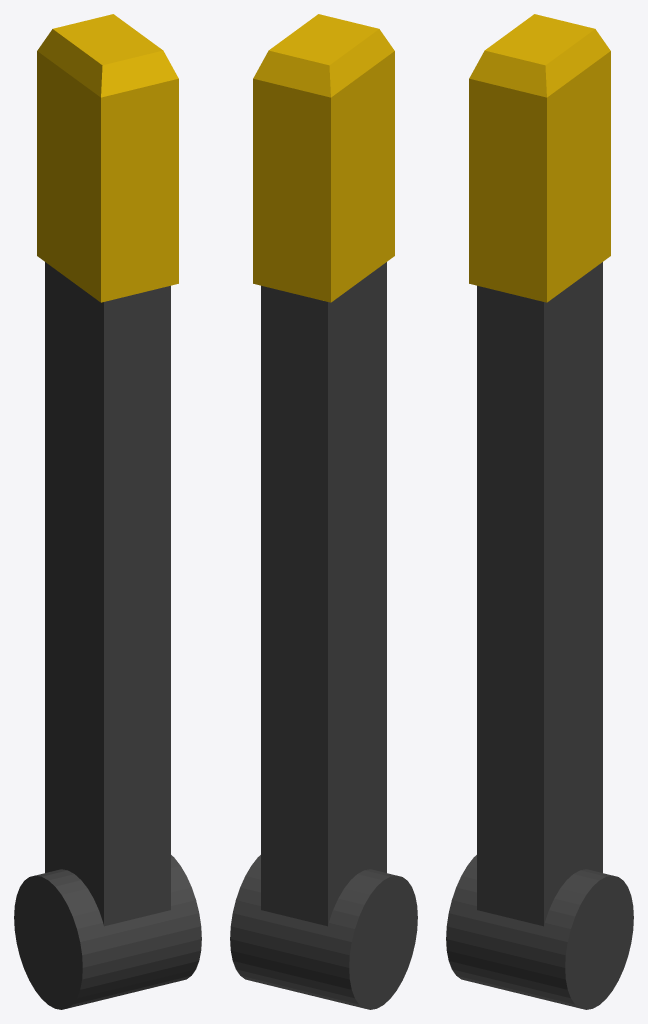
Rendered from YellowLeverWOB.glb.
The picture shows the model from 3 angles, left to right: view 1: azimuth 30°, elevation 25°; view 2: azimuth 150°, elevation 25°; view 3: azimuth 330°, elevation 25°; orthographic projection.
Parts seen in each view (by area): view 1: Handle, Top; view 2: Handle, Top; view 3: Handle, Top.
Part boxes in pixels (x1,y1,x2,y2): Handle: [14, 262, 201, 1009]; Top: [37, 14, 178, 302]; Handle: [230, 262, 417, 1009]; Top: [253, 14, 394, 302]; Handle: [446, 262, 633, 1009]; Top: [469, 14, 610, 302].
Bounding box in the file's own units: 0.1393 × 1.06 × 0.1393.
